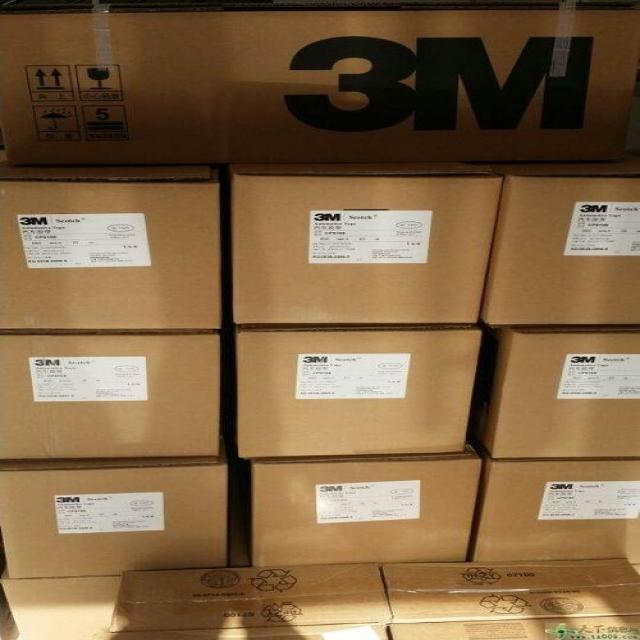box: (0, 9, 639, 169), (220, 165, 506, 327), (0, 167, 221, 333), (235, 326, 481, 459), (246, 435, 483, 567), (0, 331, 225, 462), (469, 162, 639, 330), (0, 458, 229, 577), (470, 327, 639, 458), (111, 565, 388, 630), (469, 459, 639, 564), (378, 559, 639, 623), (2, 577, 116, 639), (385, 613, 638, 639), (107, 624, 385, 639)
